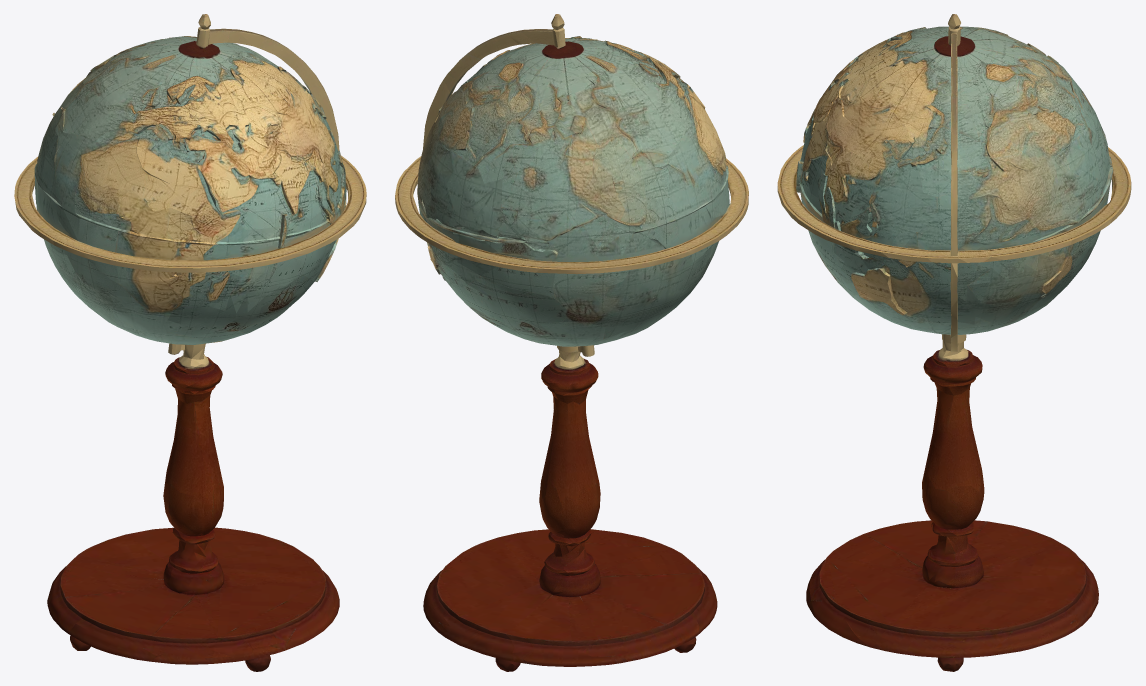
Rendered from standing_globe.glb.
The picture shows the model from 3 angles, left to right: view 1: azimuth 30°, elevation 25°; view 2: azimuth 150°, elevation 25°; view 3: azimuth 270°, elevation 25°; orthographic projection.
Visible parts, largest first — view 1: Mesh_0; view 2: Mesh_0; view 3: Mesh_0.
Part boxes in pixels (<box>): Mesh_0: <box>14,14,366,671</box>; Mesh_0: <box>395,14,748,671</box>; Mesh_0: <box>777,14,1131,671</box>.
Size of the model in its own units: 0.6348 by 1.2 by 0.6356.
Materials: 1 (1 with a texture image).
